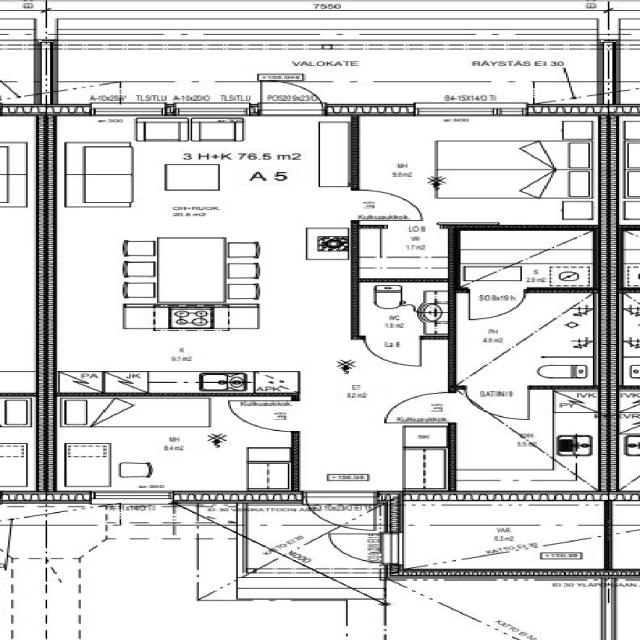door: (343, 186, 428, 221), (227, 397, 300, 433), (379, 390, 456, 424), (302, 494, 375, 528), (462, 286, 529, 322), (256, 78, 324, 112), (359, 334, 425, 369), (326, 530, 392, 563)
window: (409, 102, 522, 118), (83, 101, 174, 119), (165, 101, 258, 118), (86, 490, 178, 504)
zone: (60, 112, 338, 378), (54, 117, 353, 200), (356, 116, 597, 212), (55, 396, 295, 491), (450, 290, 597, 388), (384, 579, 608, 640), (453, 229, 600, 289), (353, 280, 452, 338), (353, 222, 451, 278), (108, 505, 180, 525), (620, 226, 640, 290)
